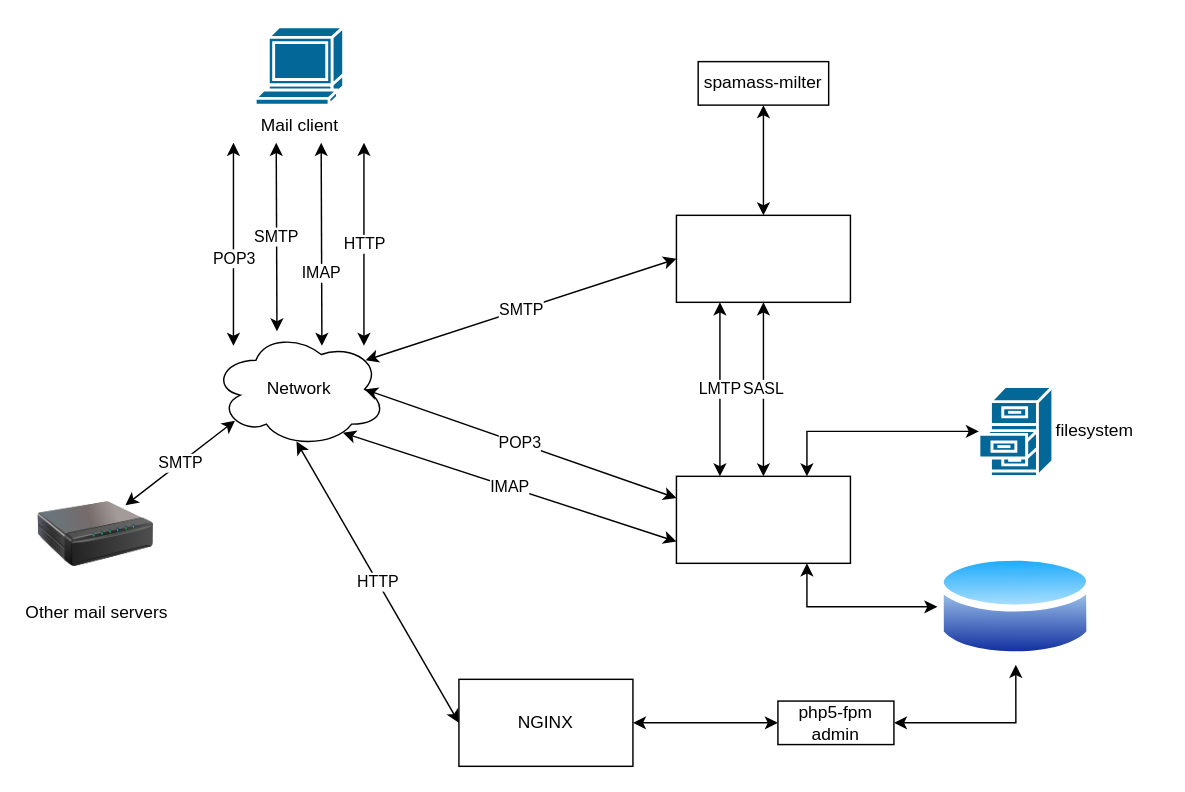
Some shapes in this 1185 by 792 pixel diagram are drawn without their labels. The shapes that lost their labels are listed below. From the top down, each one's centre as x and y in pixels, then its label:
At point 762,258: "Postfix MTA".
At point 762,519: "Dovecot LDA".
At point 1015,606: "mariadb".
